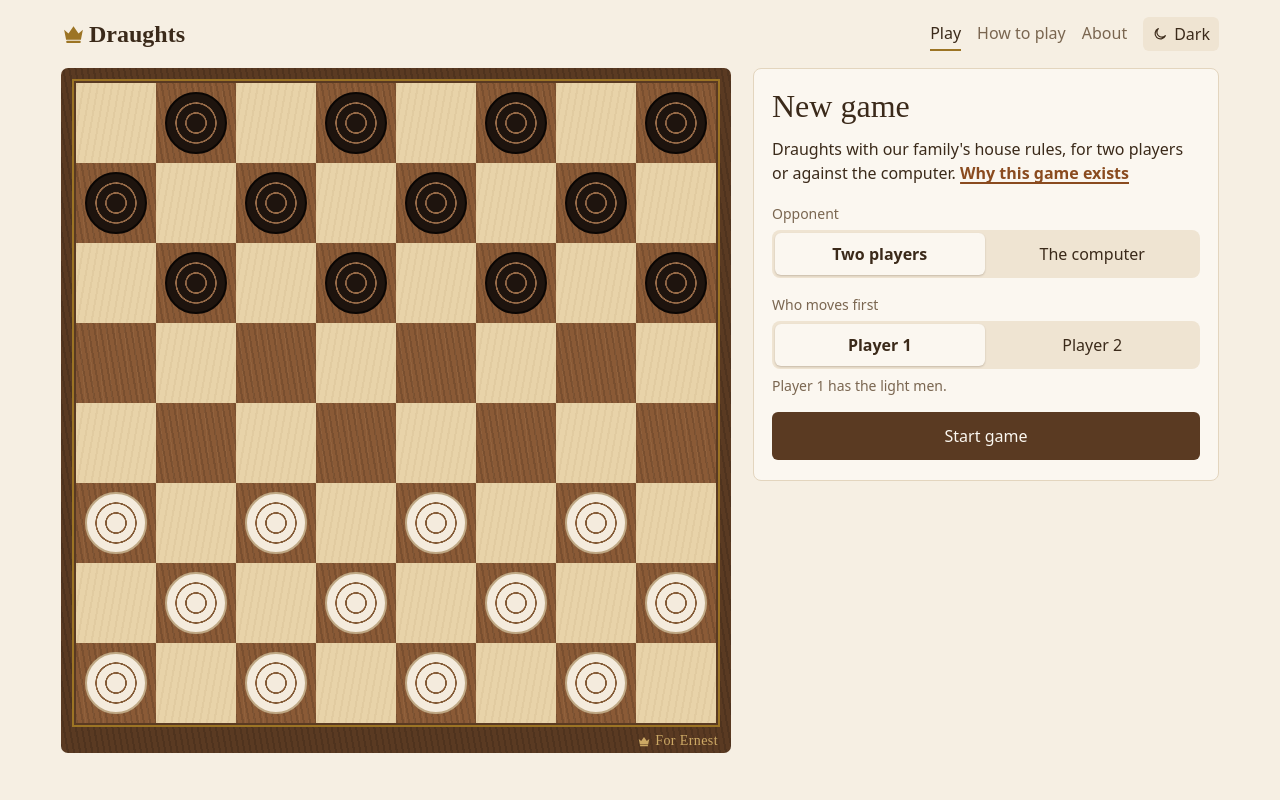
Test: the game screen › offers Undo only once there is something to undo, and Undo takes the turn back
Expected: the heading "New game" is shown, [772,88,910,124]
Step 1. Click the button "Start game" → (986, 436), box [772,412,1200,460]
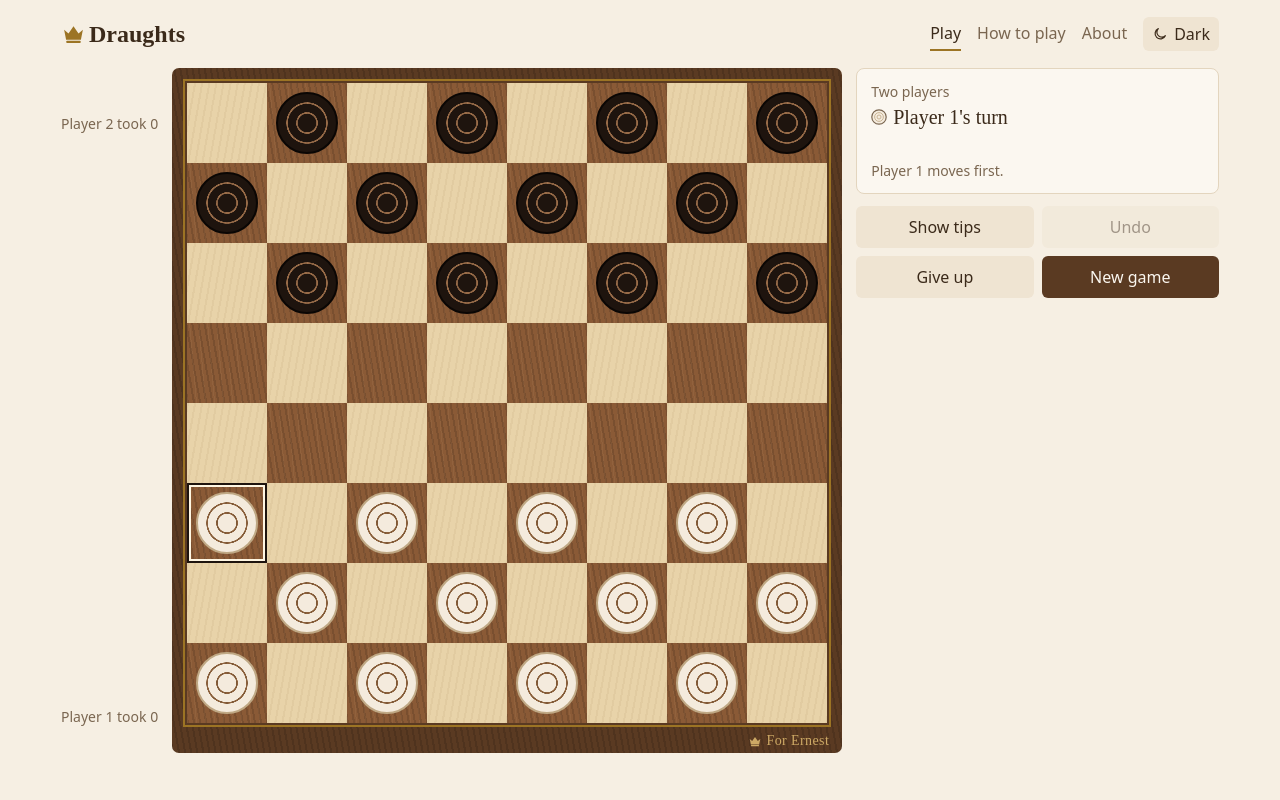
Step 2. Click the cell named "Row 6, column 3, player 1's man" → (387, 523), box [347,483,427,563]
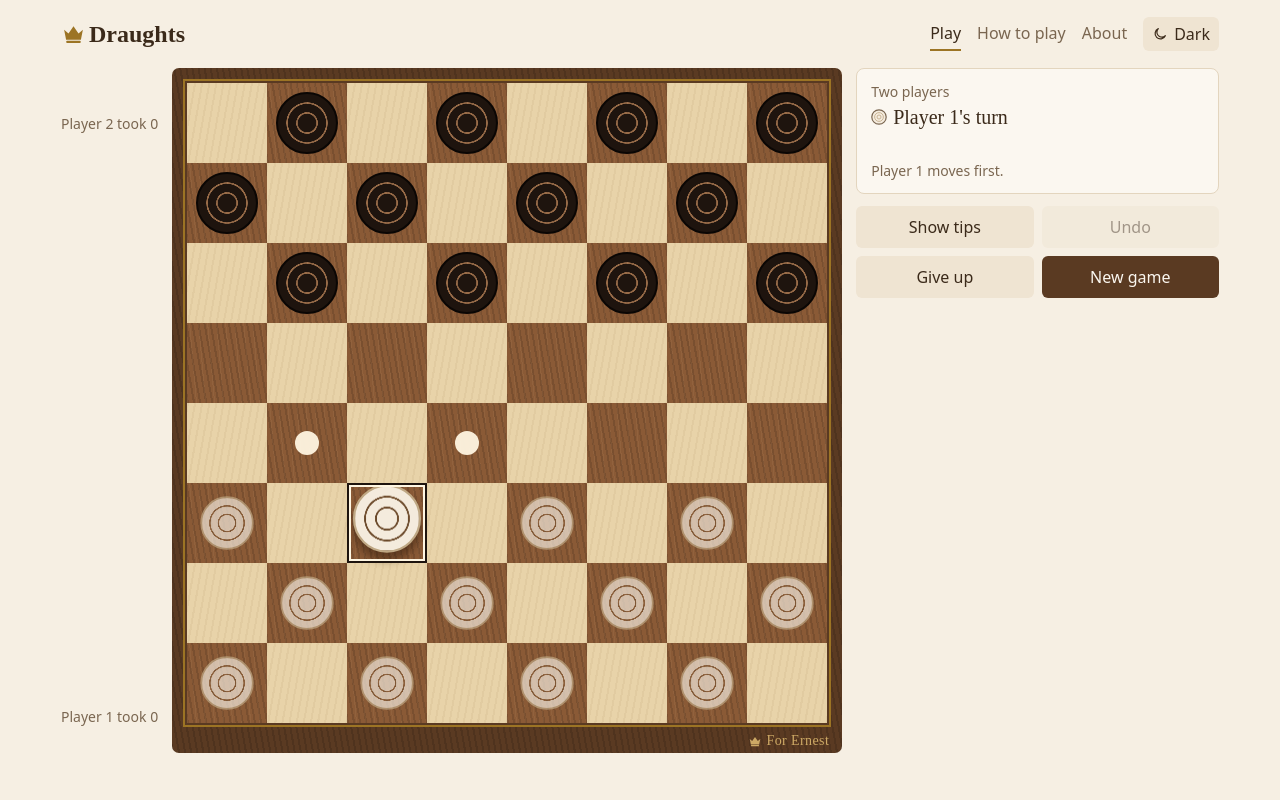
Step 3. Click the cell named "Row 5, column 4, empty, target" → (467, 443), box [427,403,507,483]
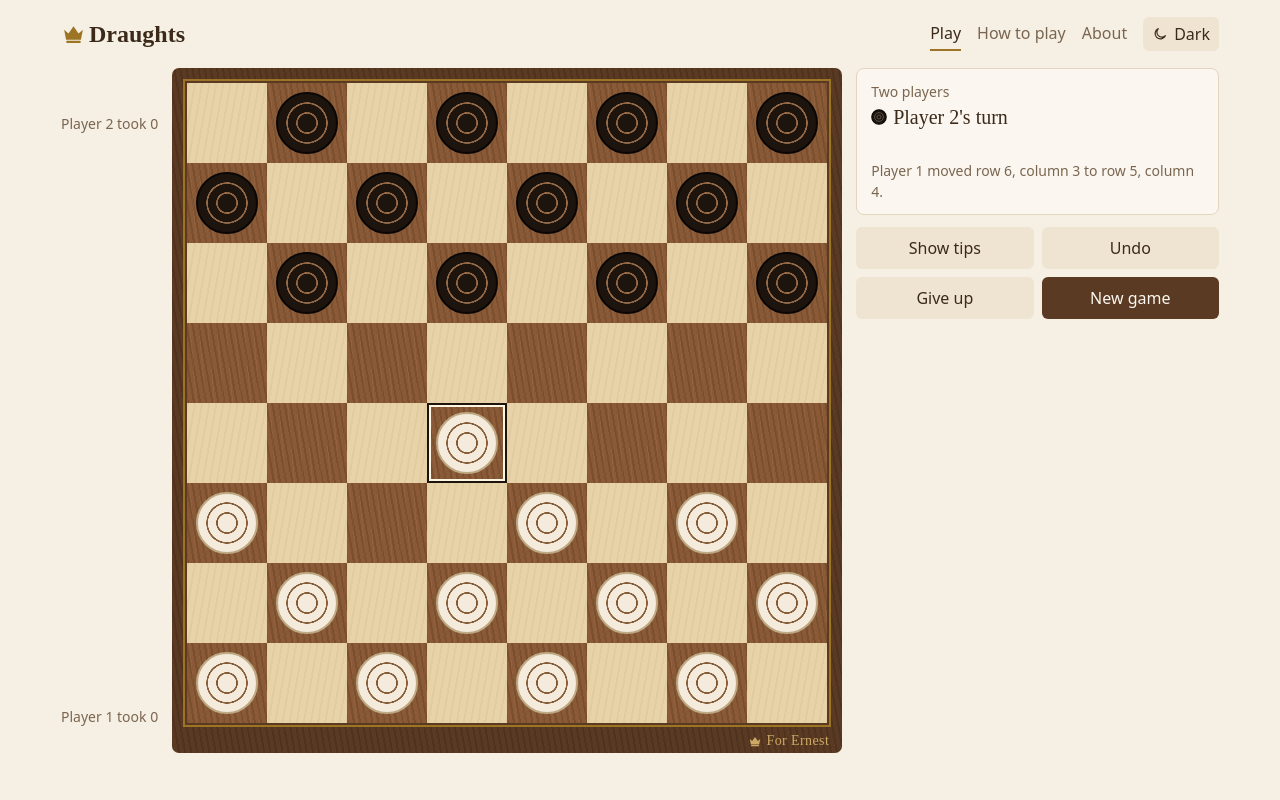
Now the text "Player 2's turn" is shown, box [893,104,1008,130]
Step 4. Click the button "Undo" → (1130, 248), box [1042,227,1219,269]
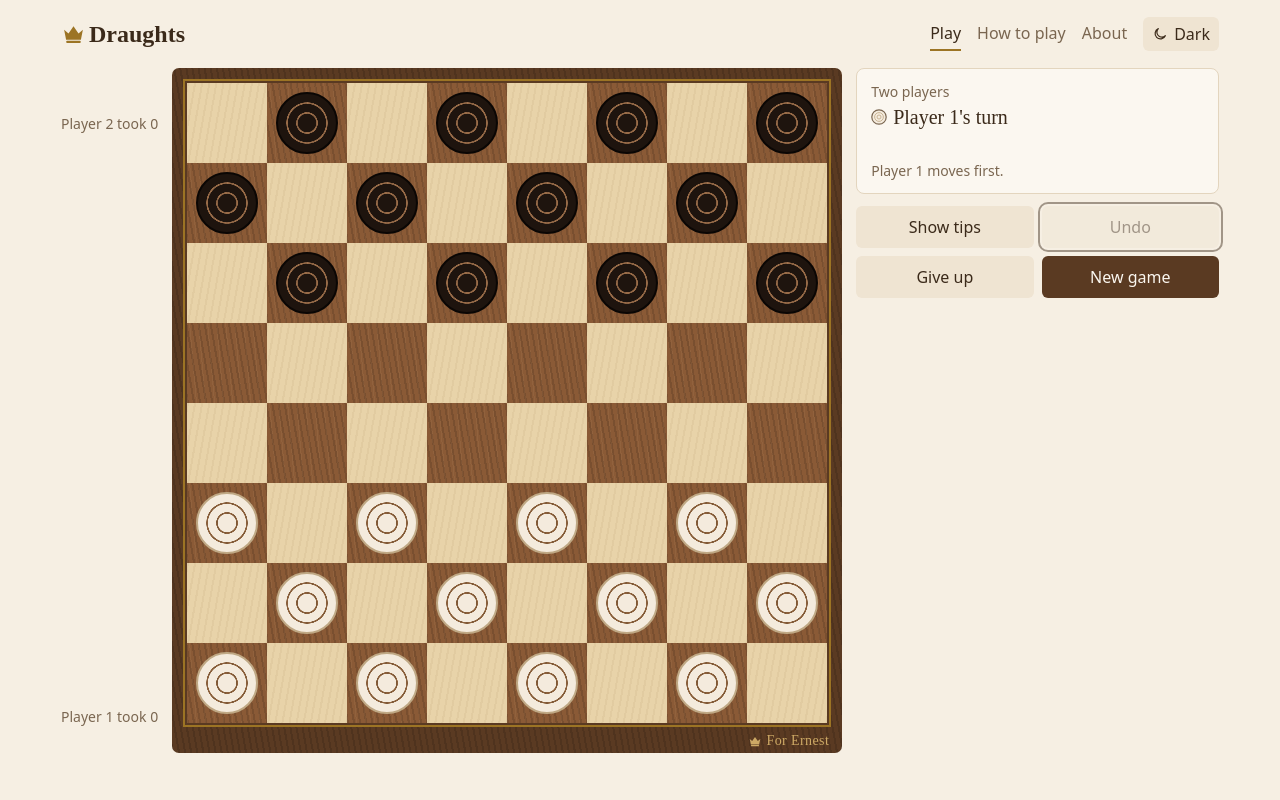
Now the cell named "Row 6, column 3, player 1's man" is shown, box [347,483,427,563]
Now the text "Player 1's turn" is shown, box [893,104,1008,130]
